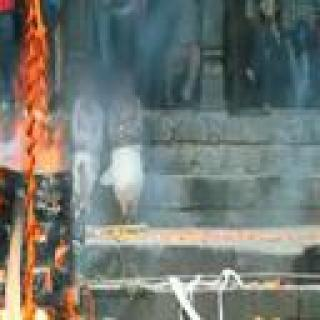fire: (0, 89, 49, 320)
